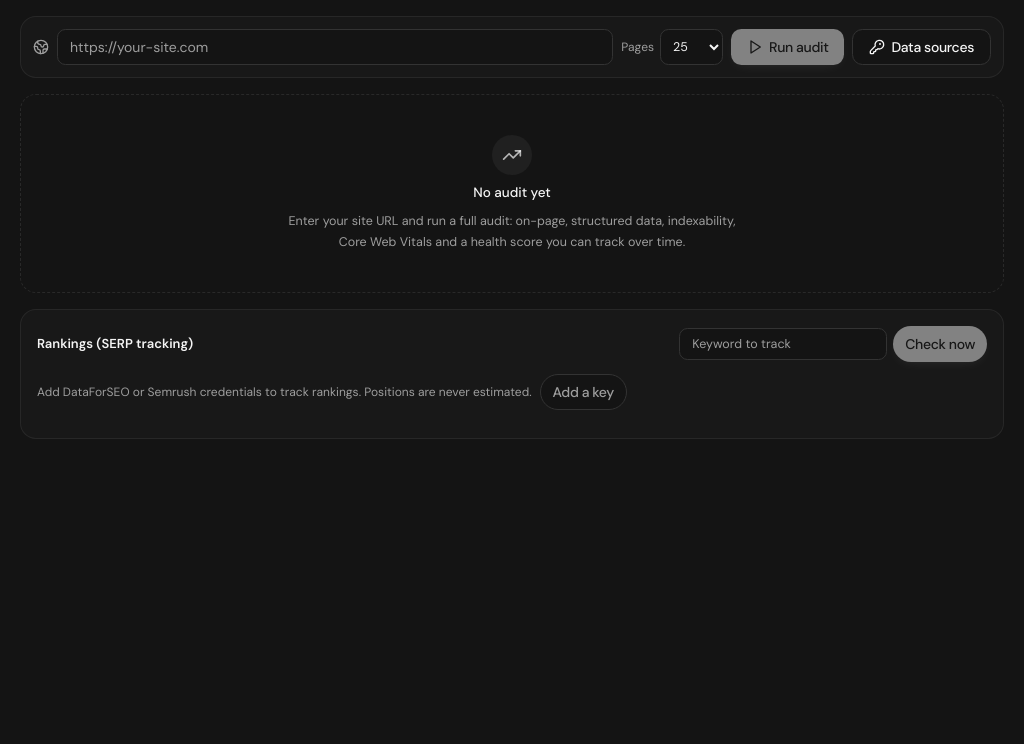
Scenario: SeoDesk › runs an audit, shows the score, filters findings and explains missing Core Web Vitals
The width and height of the screenshot is (1024, 744).
expect the text "No audit yet" is shown: met, box [473,183,551,203]
In the field named "Site URL": (335, 47) [57,29,613,65], type "shop.test"
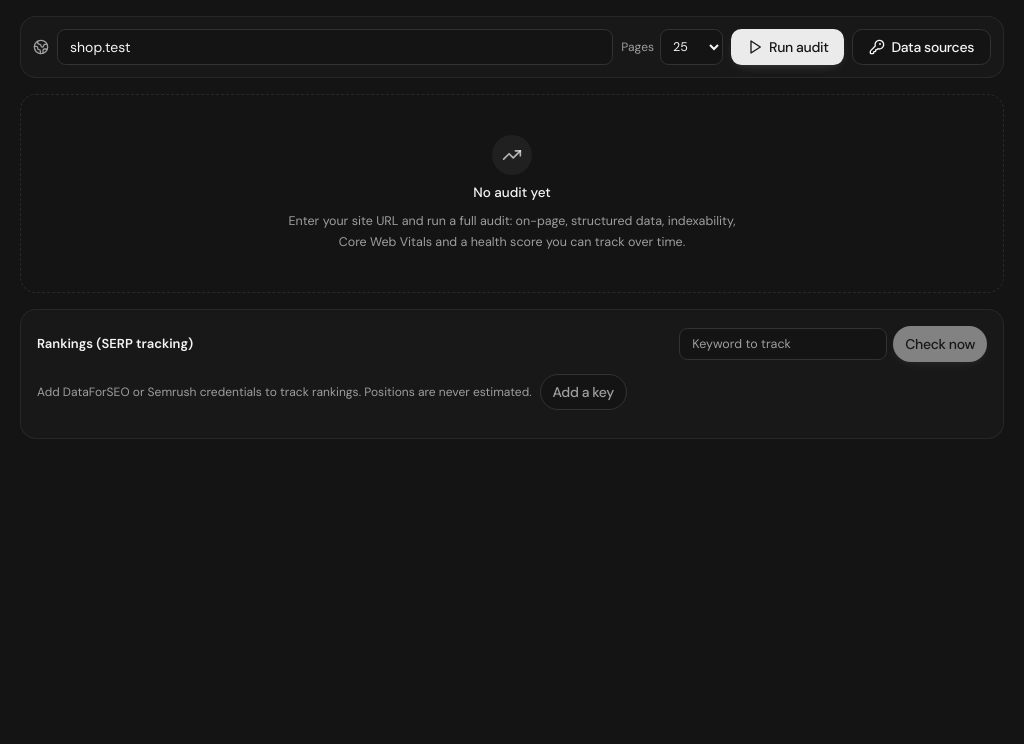
Click the button "Run audit": click(788, 47) [731,29,844,65]
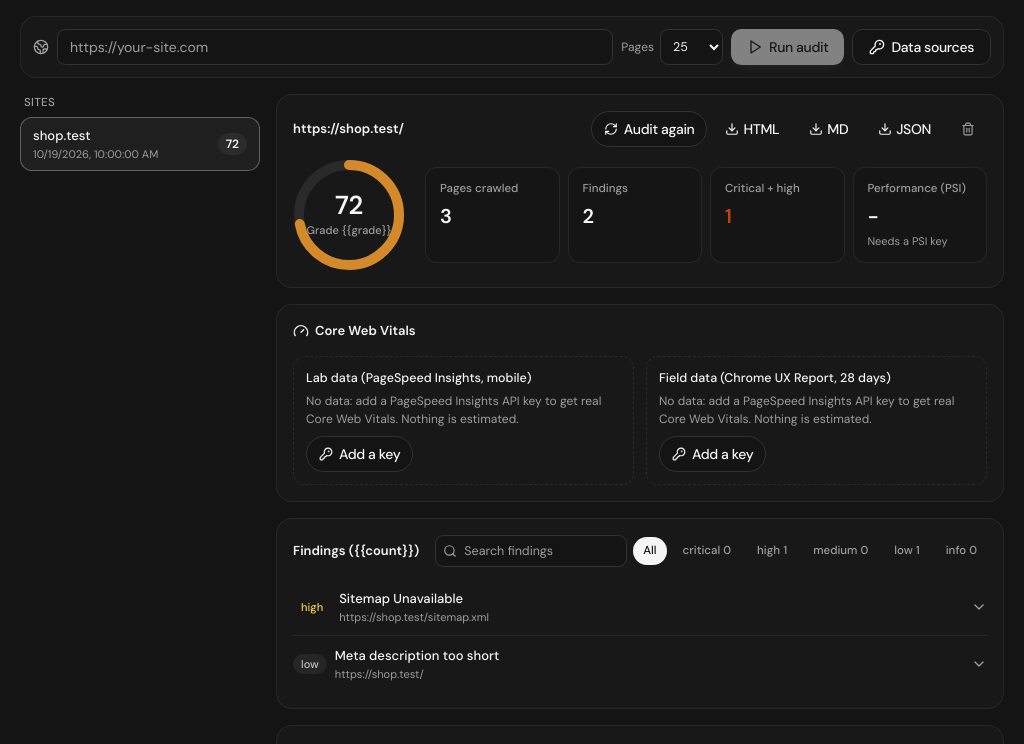
expect the text "Sitemap Unavailable" is shown: met, box [339,590,463,607]
expect the picture named "Health score: 72" is shown: met, box [293,159,405,271]
expect the text "add a PageSpeed Insights API key" below "Lab data (PageSpeed Insights, mobile)" is shown: met, box [306,393,601,427]
Click the button "low 1": click(907, 551) [884,537,930,565]
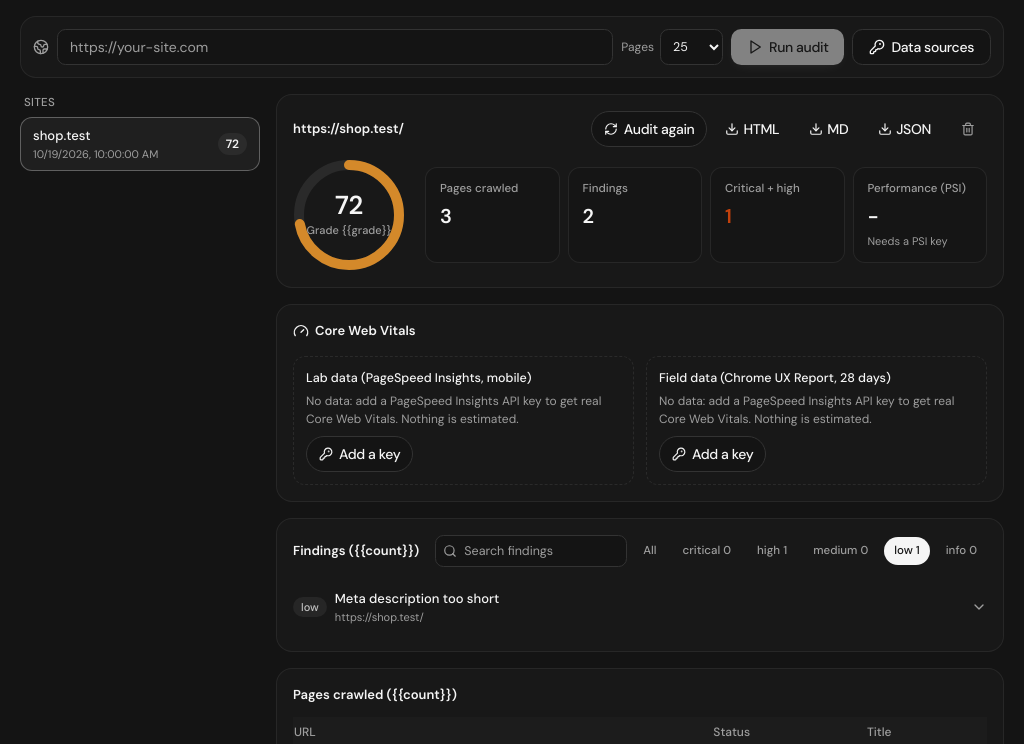
expect the text "Meta description too short" is shown: met, box [335,590,499,607]
expect the button "Sitemap Unavailable" is gone: met
